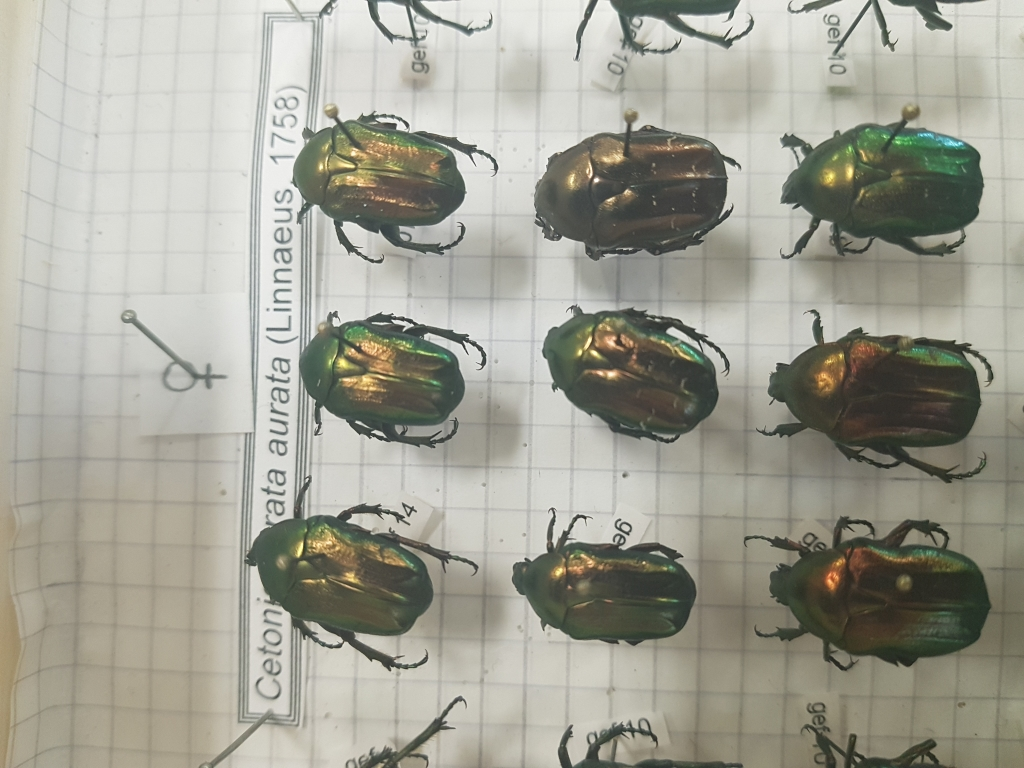Cetonia_aurata: (230, 472, 474, 686), (735, 503, 999, 673), (753, 303, 997, 484), (763, 115, 987, 270), (287, 106, 500, 267), (293, 298, 501, 456), (530, 300, 743, 452), (505, 500, 702, 657), (528, 124, 746, 258)
